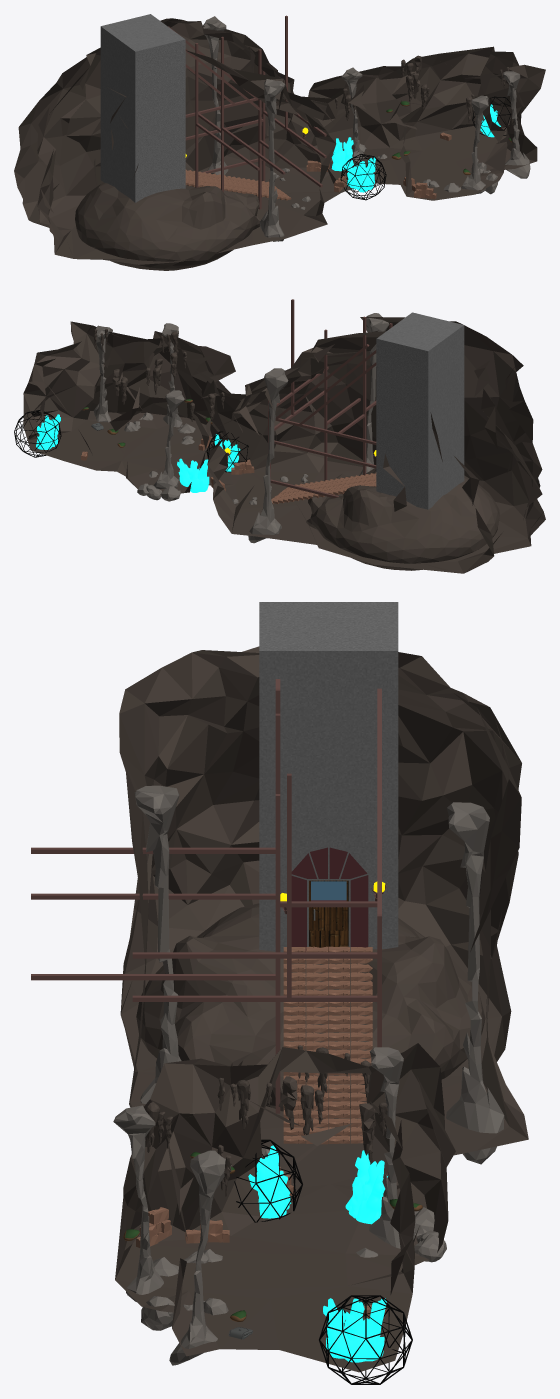
The model's file is cave.fbx.
3 views of the same model, one above another, from view 1: azimuth 30°, elevation 25°; view 2: azimuth 150°, elevation 25°; view 3: azimuth 270°, elevation 25° (orthographic). The views are drawn at different scales.
Visible parts, largest first — view 1: Cube.001, Cube.095, Icosphere.003, Cube.014, Cube.055, Cube.045, Icosphere.001, Cube.058, Cube.063, Cube.053; view 2: Cube.001, Cube.095, Icosphere.003, Cube.014, Cube.055, Cube.045, Cube.053, Icosphere.002, Cube.049, Cube.063, Cube.058; view 3: Cube.001, Cube.095, Cube.014, Icosphere.003, Cube.055, Cube.045, Cube.049, Icosphere.002, Cube.053, Cube.058, Cube.063, Icosphere.001.
Part boxes in pixels (x1,y1,x2,y2): Cube.001: (14, 18, 545, 264); Cube.095: (100, 14, 185, 202); Icosphere.003: (75, 162, 260, 270); Cube.014: (203, 16, 530, 241); Cube.055: (168, 15, 326, 209); Cube.045: (185, 169, 291, 200); Icosphere.001: (340, 154, 386, 200); Cube.058: (345, 157, 375, 192); Cube.063: (306, 160, 436, 199); Cube.053: (331, 137, 353, 171); Cube.001: (23, 317, 545, 573); Cube.095: (376, 312, 464, 509); Icosphere.003: (306, 468, 499, 570); Cube.014: (82, 313, 389, 543); Cube.055: (268, 299, 392, 498); Cube.045: (271, 472, 376, 504); Cube.053: (177, 458, 209, 492); Icosphere.002: (14, 409, 61, 457); Cube.049: (36, 414, 60, 449); Cube.063: (198, 436, 254, 490); Cube.058: (214, 434, 240, 471); Cube.001: (115, 646, 528, 1372); Cube.095: (259, 602, 398, 952); Cube.014: (113, 785, 504, 1365); Icosphere.003: (136, 903, 485, 1111); Cube.055: (31, 679, 381, 1113); Cube.045: (283, 946, 372, 1144); Cube.049: (323, 1298, 386, 1362); Icosphere.002: (319, 1295, 412, 1384); Cube.053: (345, 1150, 387, 1224); Cube.058: (248, 1145, 291, 1218); Cube.063: (136, 1167, 354, 1247); Icosphere.001: (234, 1139, 302, 1222).
Size of the model in its own units: 2108 by 908 by 923.
